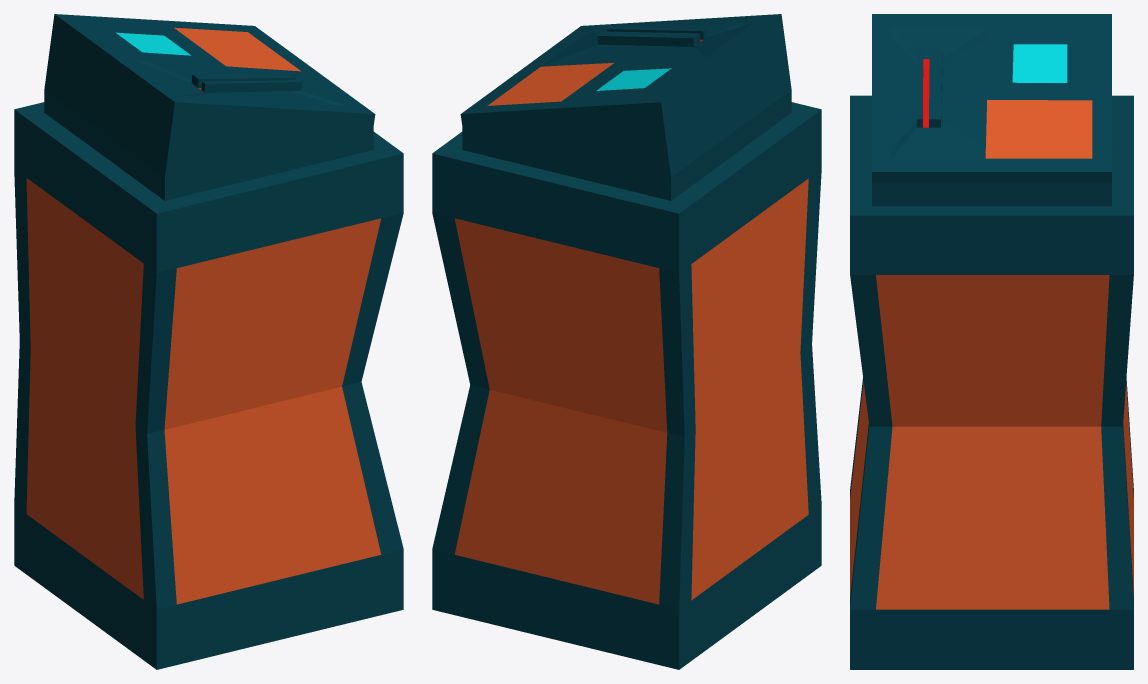
The model's file is Switch.fbx.
3 renders of one model, left to right at view 1: azimuth 30°, elevation 25°; view 2: azimuth 150°, elevation 25°; view 3: azimuth 270°, elevation 25°, orthographic.
Visible parts, largest first — view 1: Cube; view 2: Cube; view 3: Cube.
Part boxes in pixels (left/top/right/bottom): Cube: left=14, top=14, right=403, bottom=669; Cube: left=432, top=14, right=821, bottom=669; Cube: left=850, top=14, right=1133, bottom=669.
Bounding box in the file's own units: 200 × 428 × 200.
